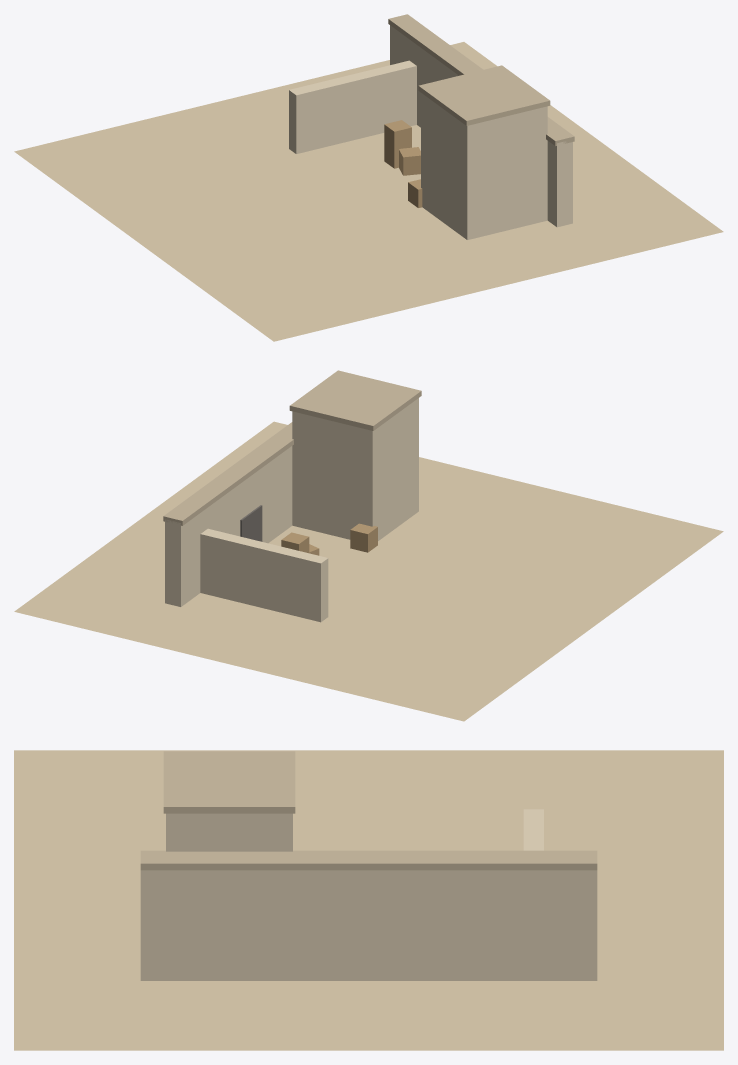
The model's file is MainMenu.glb.
The picture shows the model from 3 angles, top to bottom: view 1: azimuth 30°, elevation 25°; view 2: azimuth 150°, elevation 25°; view 3: azimuth 270°, elevation 25°; orthographic projection. The views are drawn at different scales.
Parts seen in each view (by area): view 1: Floor, House, SideWall_Left, HouseTrim, Wall, WallTrim, Crate_2, Crate_3; view 2: Floor, House, SideWall_Left, Wall, HouseTrim, WallTrim, Crate_4, Doorway; view 3: Floor, Wall, WallTrim, HouseTrim, House, SideWall_Left.
Boxes of the visible parts, x1=… form: Floor: x1=14, y1=42, x2=723, y2=341; House: x1=421, y1=93, x2=547, y2=239; SideWall_Left: x1=289, y1=60, x2=416, y2=153; HouseTrim: x1=418, y1=65, x2=550, y2=125; Wall: x1=390, y1=25, x2=572, y2=227; WallTrim: x1=388, y1=14, x2=574, y2=145; Crate_2: x1=384, y1=120, x2=411, y2=150; Crate_3: x1=399, y1=147, x2=420, y2=175; Floor: x1=14, y1=421, x2=723, y2=721; House: x1=292, y1=398, x2=418, y2=540; SideWall_Left: x1=200, y1=528, x2=328, y2=622; Wall: x1=165, y1=446, x2=292, y2=606; HouseTrim: x1=289, y1=370, x2=421, y2=430; WallTrim: x1=163, y1=422, x2=293, y2=525; Crate_4: x1=350, y1=523, x2=377, y2=552; Doorway: x1=240, y1=505, x2=262, y2=541; Floor: x1=14, y1=750, x2=723, y2=1050; Wall: x1=140, y1=870, x2=597, y2=980; WallTrim: x1=140, y1=850, x2=597, y2=870; HouseTrim: x1=163, y1=751, x2=295, y2=813; House: x1=166, y1=813, x2=292, y2=851; SideWall_Left: x1=523, y1=809, x2=543, y2=850.
Size of the model in its own units: 28 by 7.15 by 28.
